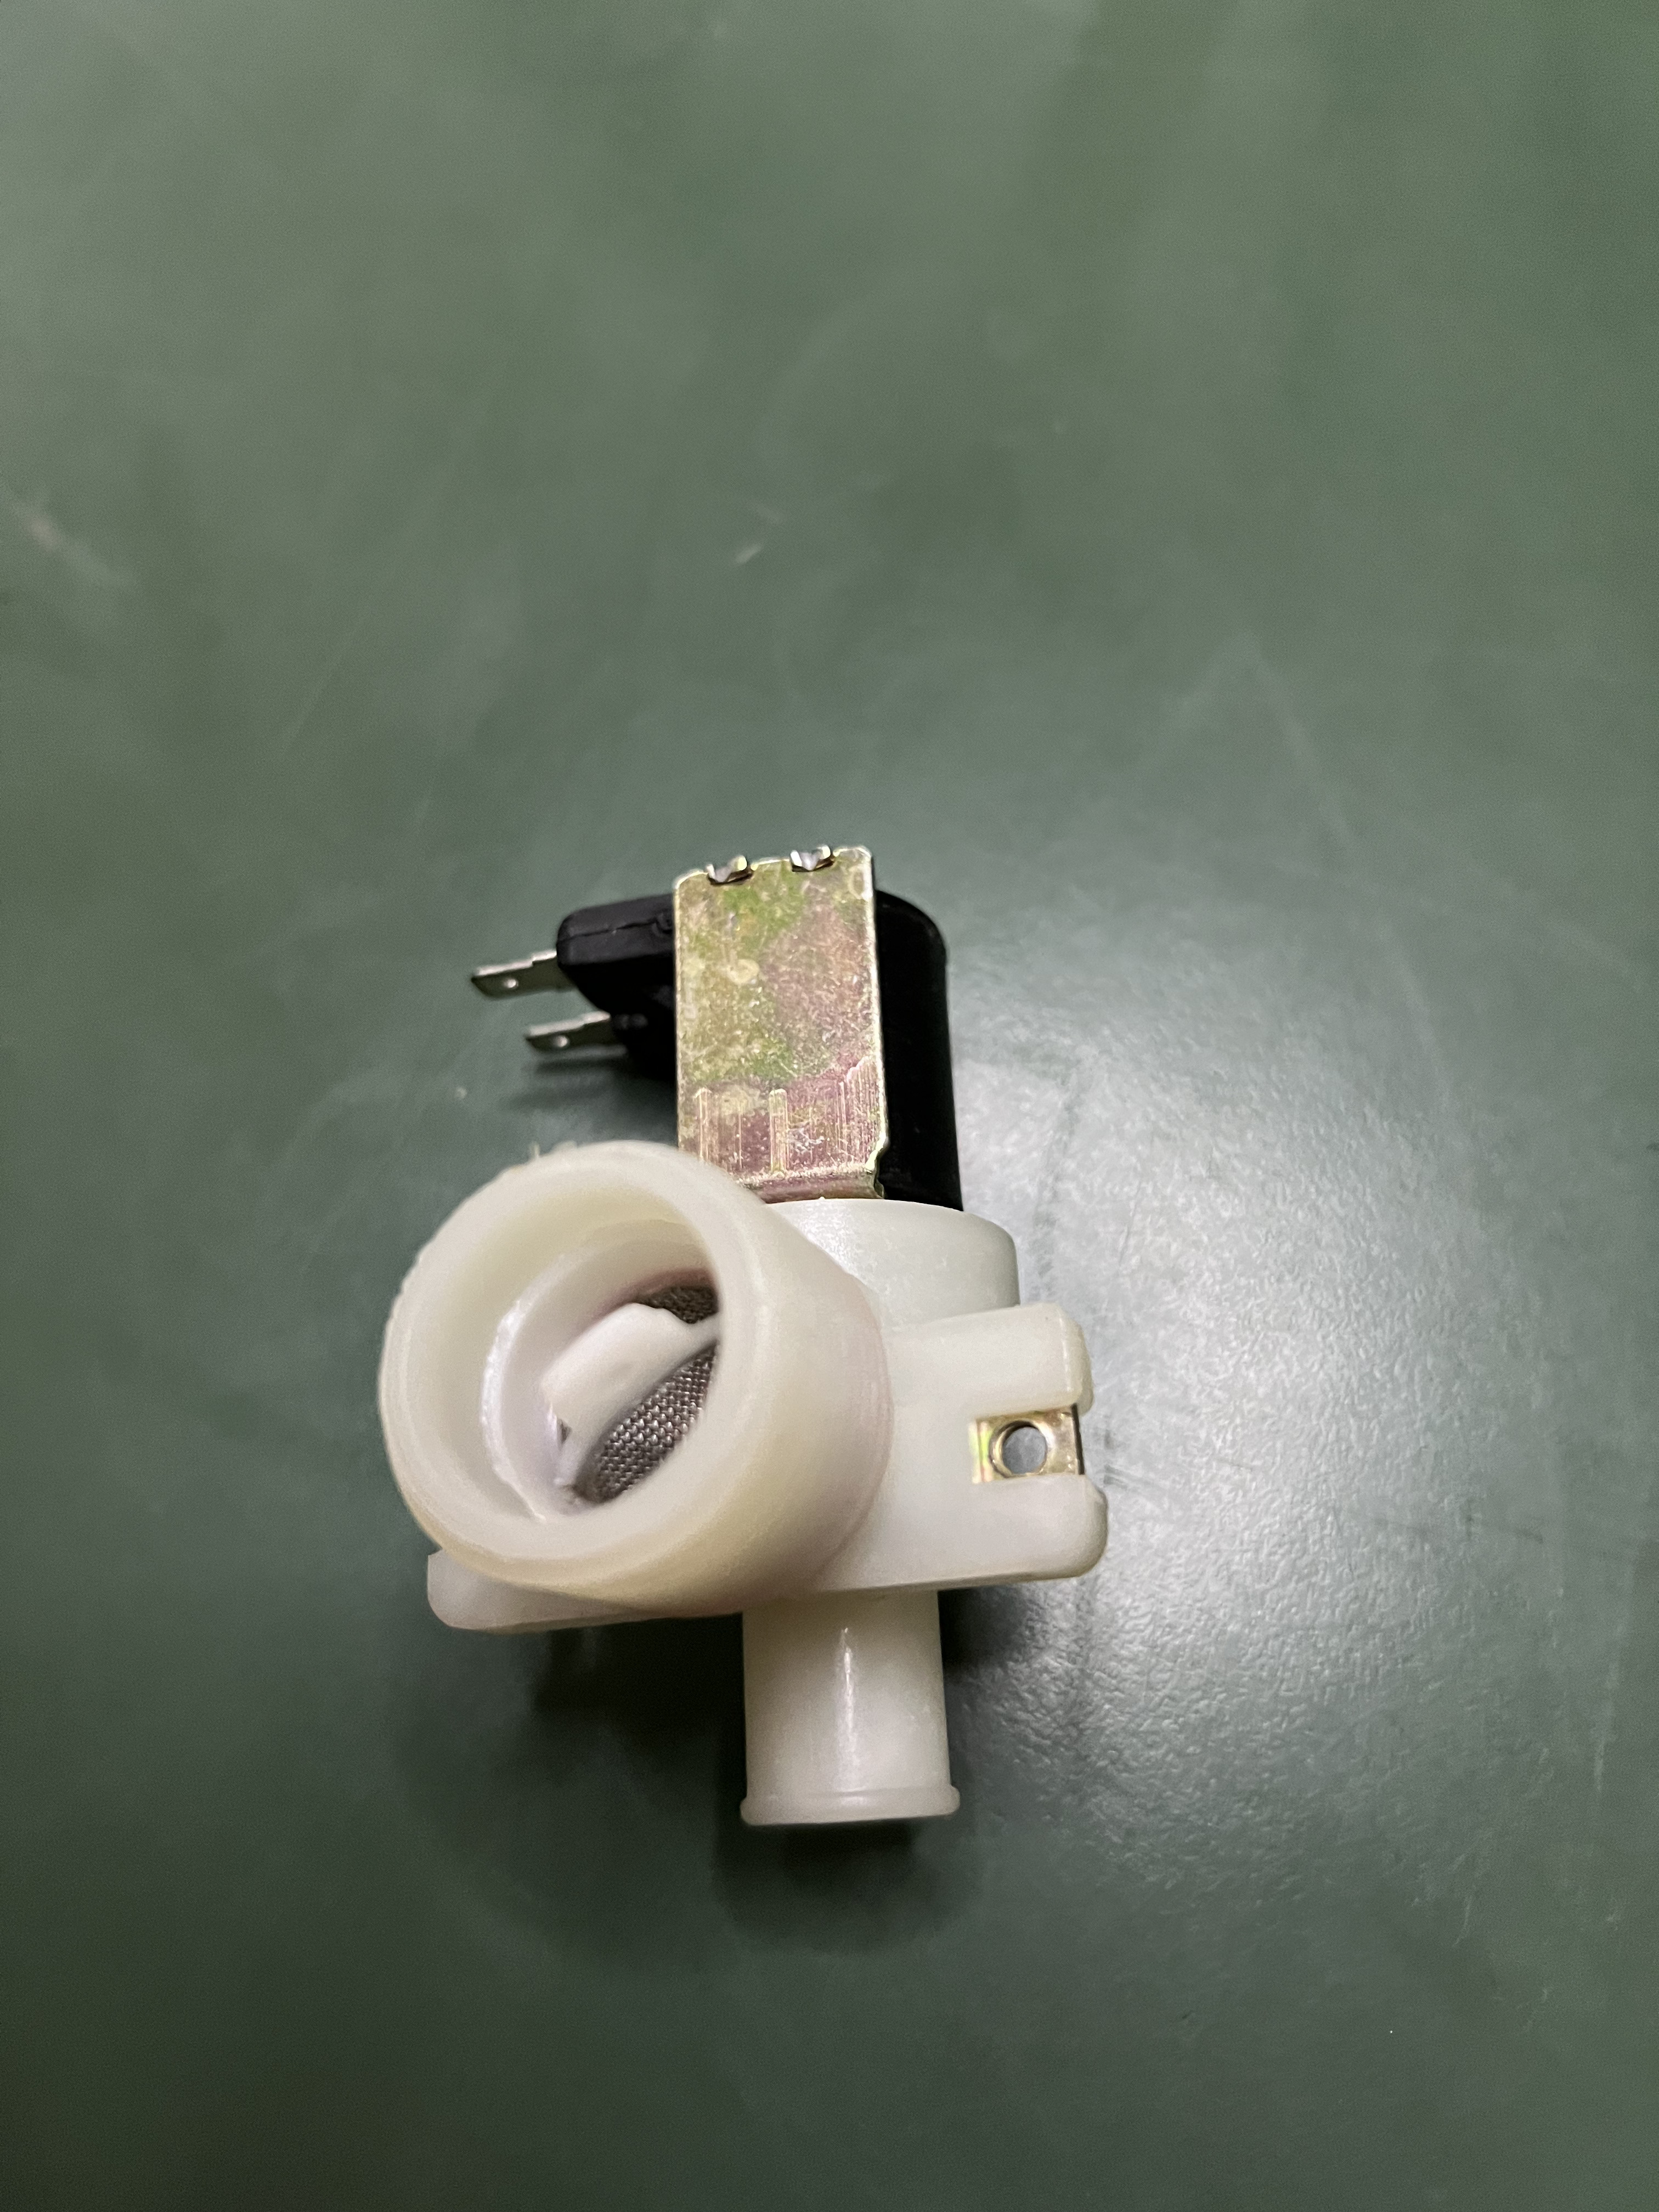godrej_inlet_valves: (361, 862, 1223, 1912)
